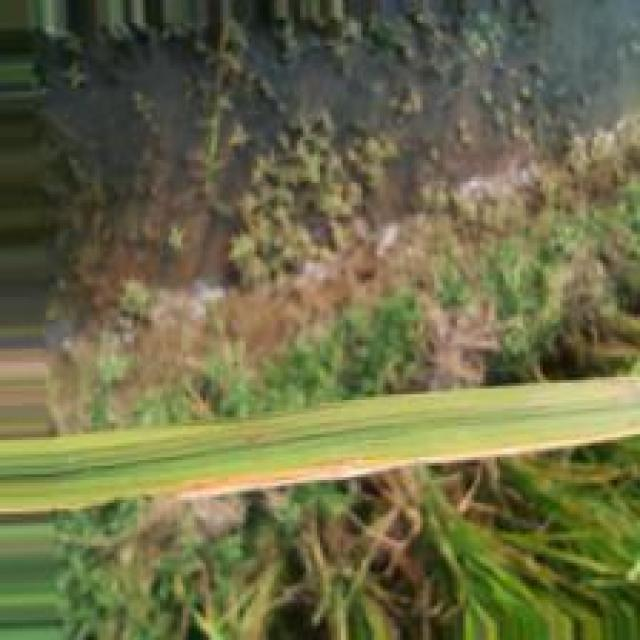Bacterial_Leaf_Blight: (155, 453, 404, 497)
